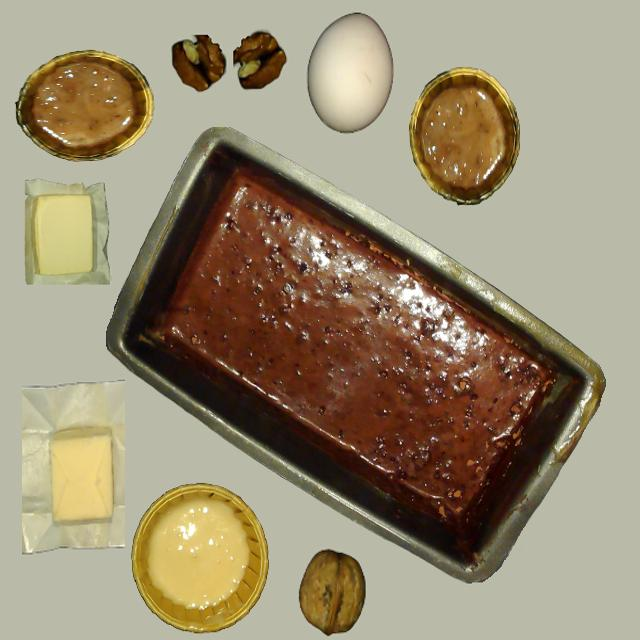Walnut: (298, 550, 366, 634)
